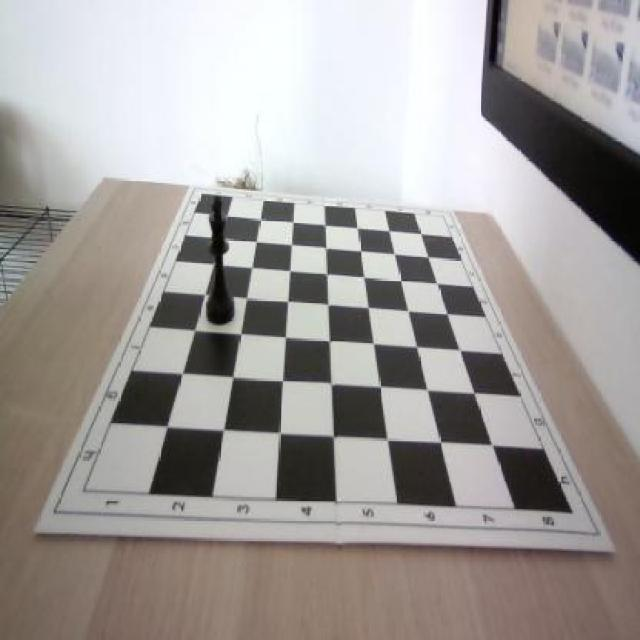black-bishop: (205, 196, 237, 330)
